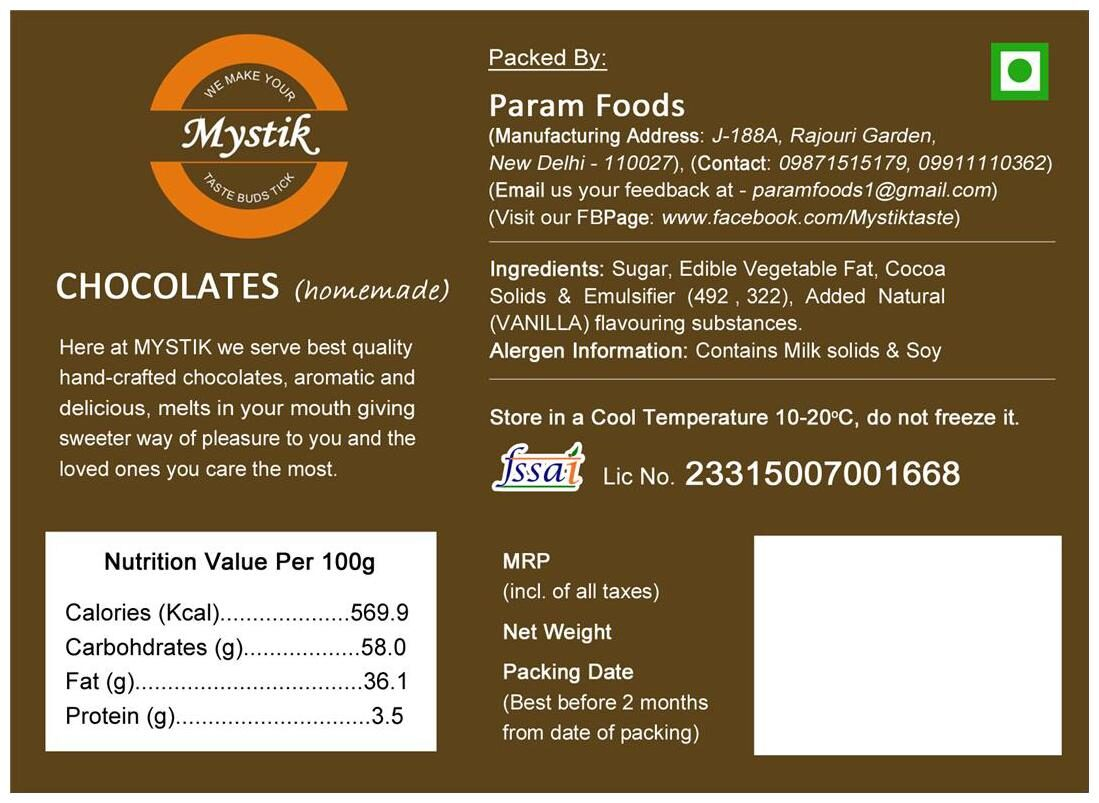fssai: (488, 440, 590, 495)
